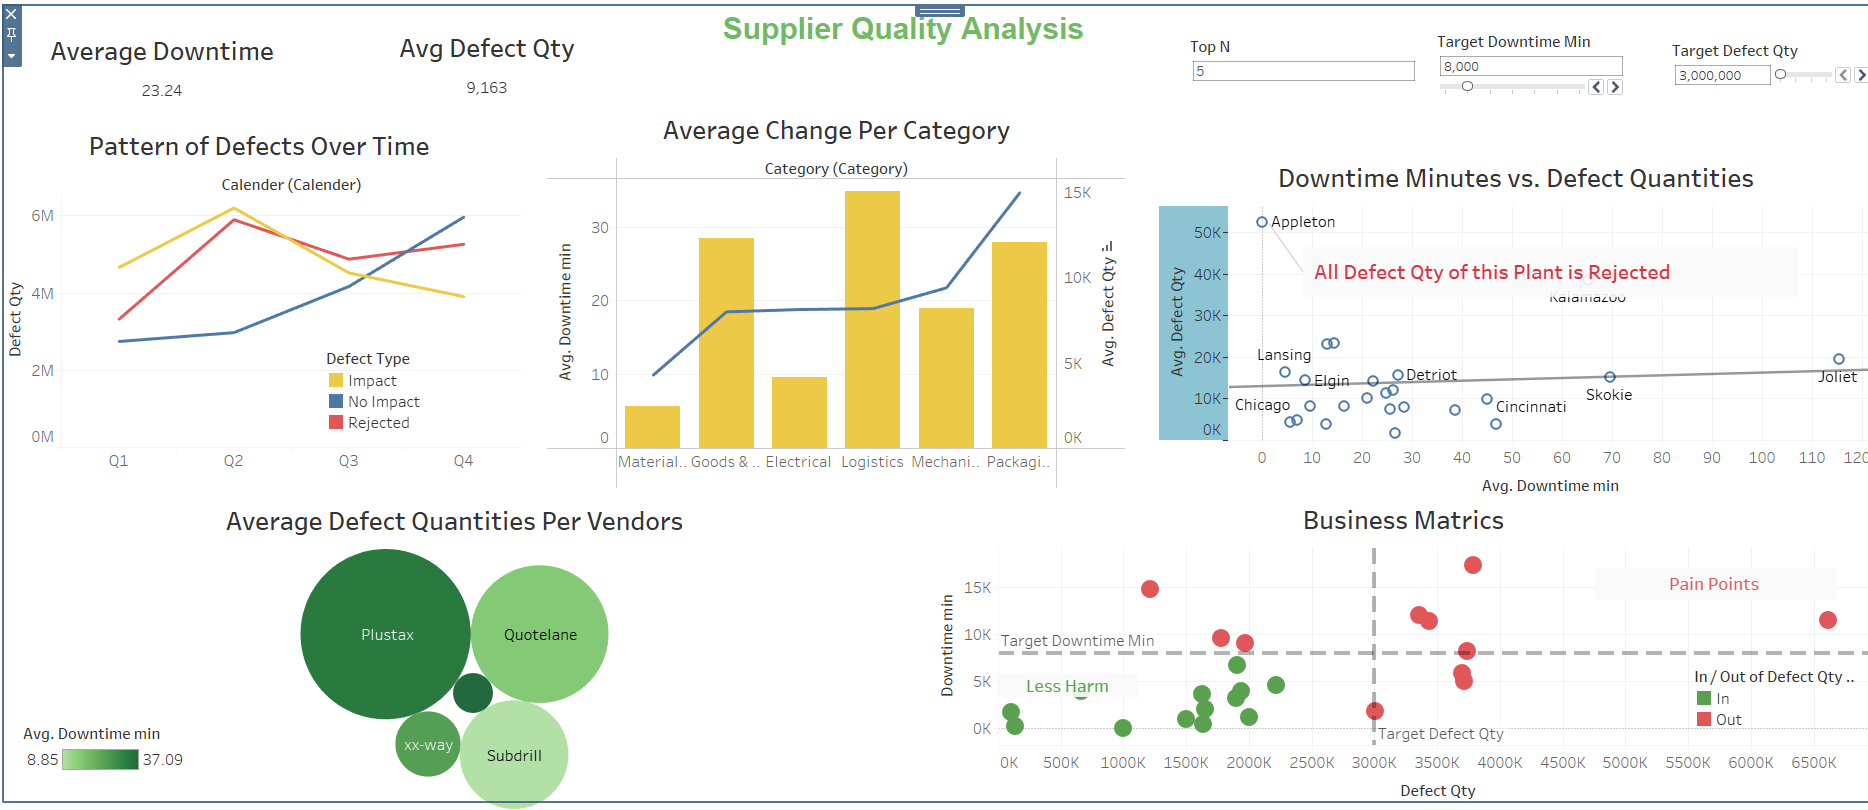

This screenshot's page, from the dashboard's own definition file:
{"tool":"tableau","page":{"name":"Dashboard 1","canvas":[1000,1000],"units":"permille","ordinal":0},"visuals":[{"type":"title","box":[347.5,17.3,269.6,39.5]},{"type":"worksheet","title":"Avg Defect Qty","mark":"Automatic","box":[176.2,34.5,167.2,108.5]},{"type":"worksheet","title":"Average Downtime","mark":"Automatic","box":[12.1,38.2,151.5,102.3]},{"type":"parameter","param":"[Parameters].[Parameter 4]","box":[763.4,40.7,100.2,87.5]},{"type":"parameter","param":"[Parameters].[Parameter 1]","box":[632.5,46.9,120.7,78.9]},{"type":"parameter","param":"[Parameters].[Parameter 3]","box":[887.8,51.8,106.2,58]},{"type":"worksheet","title":"Average Change Per Category","mark":"Automatic","rows":["Downtime min","Defect Qty"],"cols":["Category"],"box":[308.3,135.6,306.7,469.8]},{"type":"worksheet","title":"Pattern of Defects Over Time","mark":"Automatic","rows":["Defect Qty"],"cols":["Calender"],"box":[0.5,155.4,277.5,429.1]},{"type":"worksheet","title":"Downtime Minutes vs. Defect Quantities","mark":"Automatic","rows":["Defect Qty"],"cols":["Downtime min"],"box":[616,194.8,378.2,427.9]},{"type":"legend","title":"Pattern of Defects Over Time","param":"[federated.1i1b4uf0ewzdrw14n8c4q1r80qc1].[none:Defect Type:nk]","box":[174.8,431.6,90,123.3]},{"type":"worksheet","title":"Business Matrics","mark":"Circle","rows":["Downtime min"],"cols":["Defect Qty"],"box":[494.2,616.5,502.7,382.2]},{"type":"worksheet","title":"Average Defect Quantities Per Vendors","mark":"Circle","box":[3.2,617.8,479.3,382.2]},{"type":"legend","title":"Business Matrics","param":"[federated.1i1b4uf0ewzdrw14n8c4q1r80qc1].[io:Set 1:nk]","box":[899.4,823.7,87.4,93.7]},{"type":"legend","title":"Average Defect Quantities Per Vendors","param":"[federated.1i1b4uf0ewzdrw14n8c4q1r80qc1].[avg:Downtime min:qk]","box":[14.3,894,87.4,91.2]}]}

Visuals, with their boxes on the dashboard's canvas, which has no fixed pixel size, in thousandths of its width and height (x1, y1, x2, y2). These are canvas units, not pixel positions in the 1868x810 screenshot, which may show the page scaled, cropped or inside an application window:
title: <box>348,17,617,57</box>
"Avg Defect Qty" worksheet: <box>176,34,343,143</box>
"Average Downtime" worksheet: <box>12,38,164,140</box>
parameter: <box>763,41,864,128</box>
parameter: <box>632,47,753,126</box>
parameter: <box>888,52,994,110</box>
"Average Change Per Category" worksheet: <box>308,136,615,605</box>
"Pattern of Defects Over Time" worksheet: <box>0,155,278,584</box>
"Downtime Minutes vs. Defect Quantities" worksheet: <box>616,195,994,623</box>
"Pattern of Defects Over Time" legend: <box>175,432,265,555</box>
"Business Matrics" worksheet (Circle marks): <box>494,616,997,999</box>
"Average Defect Quantities Per Vendors" worksheet (Circle marks): <box>3,618,482,1000</box>
"Business Matrics" legend: <box>899,824,987,917</box>
"Average Defect Quantities Per Vendors" legend: <box>14,894,102,985</box>
